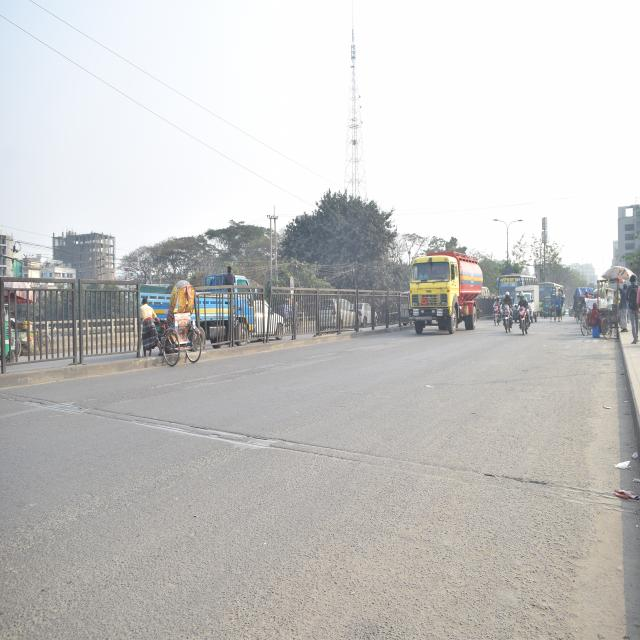bus: (496, 269, 538, 289), (538, 281, 563, 308)
car: (254, 294, 288, 339)
motorbike: (516, 300, 528, 330), (502, 303, 512, 335), (494, 302, 502, 332)
pickup-van: (526, 285, 541, 321)
truck: (133, 272, 251, 344), (404, 253, 479, 334)
